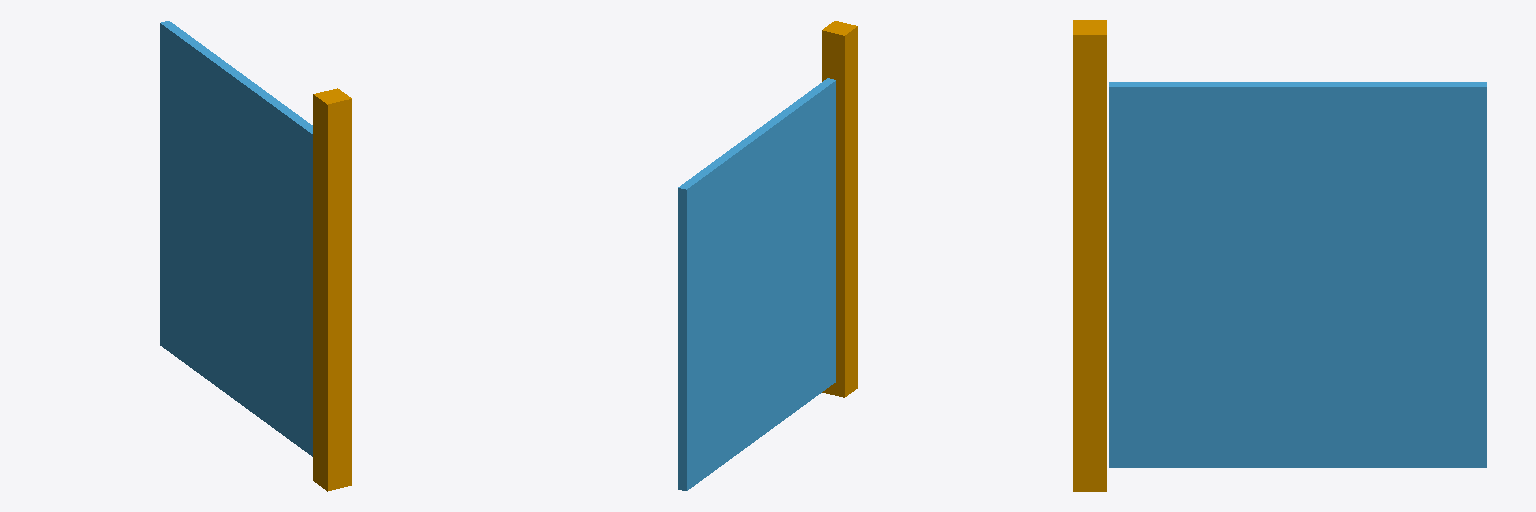
robot.urdf — gate_post:
<robot name="gate_post">
  <link name="parent"><visual><geometry><mesh filename="parent.obj"/></geometry></visual></link>
  <link name="child"><visual><geometry><mesh filename="child.obj"/></geometry></visual></link>
  <joint name="j" type="revolute">
    <parent link="parent"/><child link="child"/>
    <origin xyz="0.000000 0.043000 0.550000" rpy="0 0 0"/>
    <axis xyz="0.000000 0.000000 1.000000"/>
  </joint>
</robot>

--- Render facts (derived) ---
3 views of the same robot in one strip: view 1: azimuth 30°, elevation 25°; view 2: azimuth 150°, elevation 25°; view 3: azimuth 270°, elevation 25° (orthographic).
Model gate_post with 2 links and 1 joints (1 revolute), rooted at parent, posed every joint at zero.
Visible links, largest first — view 1: child, parent; view 2: child, parent; view 3: child, parent.
Boxes of the visible links, x1,y1,x2,y2 form: child: (160,21,312,456); parent: (313,88,351,491); child: (678,78,835,490); parent: (822,21,857,397); child: (1109,82,1486,467); parent: (1073,20,1106,491).
Bounding box of the posed robot: 0.08 × 0.986 × 1.2 m (x, y, z).
Meshes: 2 distinct files referenced, 2 mesh visuals loaded (2 OBJ).
